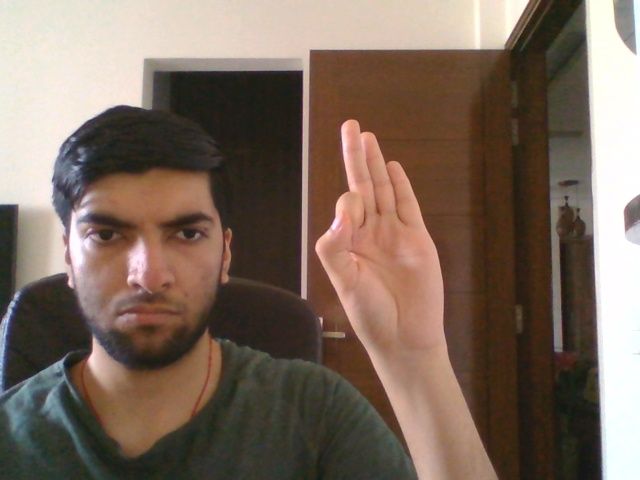LetterF: (315, 119, 446, 349)
